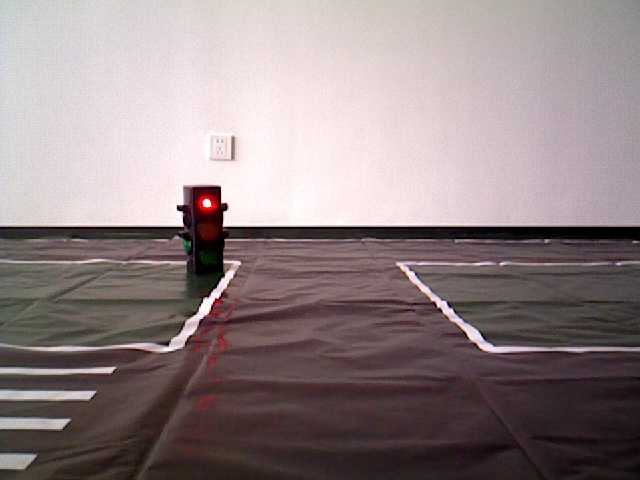red: (180, 186, 224, 275)
